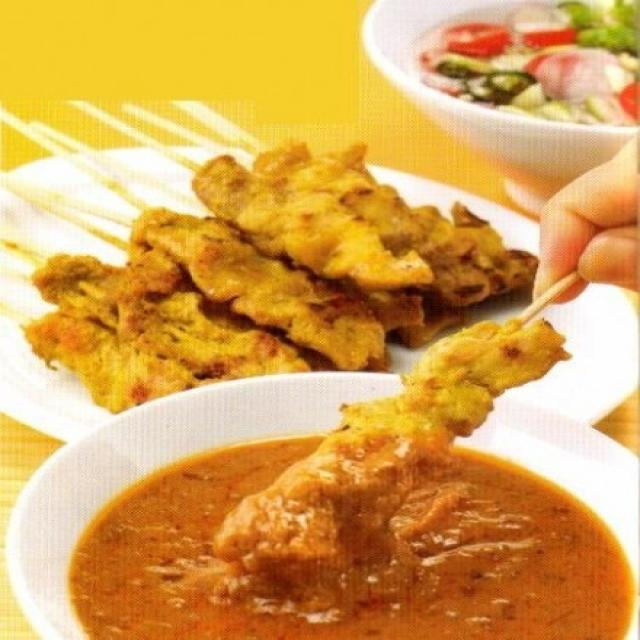牛肉菜式: (13, 48, 620, 610)
